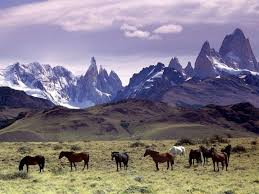field: (6, 138, 252, 194)
mountain: (5, 41, 257, 134)
sky: (2, 3, 244, 59)
